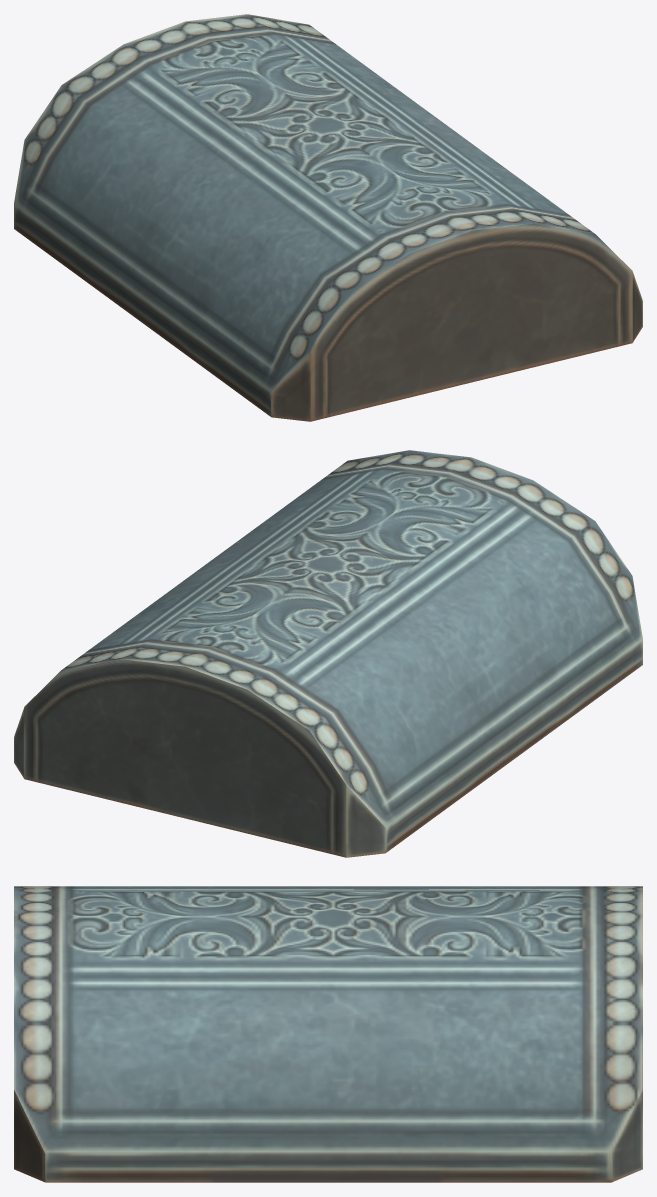
File: SM_Jewelry_Box_Cover_A_Bronze.fbx
The picture shows the model from 3 angles, top to bottom: view 1: azimuth 30°, elevation 25°; view 2: azimuth 150°, elevation 25°; view 3: azimuth 270°, elevation 25°; orthographic projection. The views are drawn at different scales.
Visible parts, largest first — view 1: SM_Jewelry_Box_Cover_A_Bronze_LOD0; view 2: SM_Jewelry_Box_Cover_A_Bronze_LOD0; view 3: SM_Jewelry_Box_Cover_A_Bronze_LOD0.
Boxes of the visible parts, x1,y1,x2,y2 form: SM_Jewelry_Box_Cover_A_Bronze_LOD0: (14, 14, 642, 421); SM_Jewelry_Box_Cover_A_Bronze_LOD0: (14, 450, 642, 857); SM_Jewelry_Box_Cover_A_Bronze_LOD0: (14, 886, 642, 1182).
Bounding box in the file's own units: 14.86 × 19.81 × 5.8.
1 material, 1 textured.
